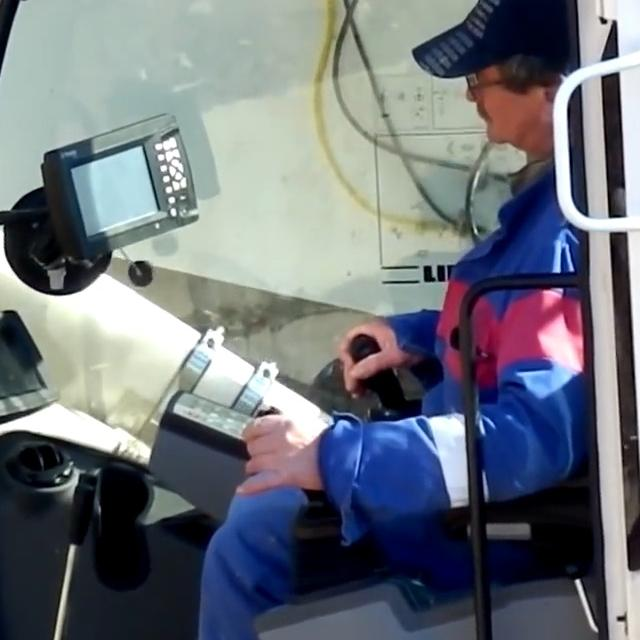NO-Hardhat: (464, 0, 573, 74)
NO-Mask: (481, 104, 545, 148)
Person: (190, 0, 587, 640)
Safety Vest: (423, 198, 584, 514)
machinery: (0, 0, 640, 640)
